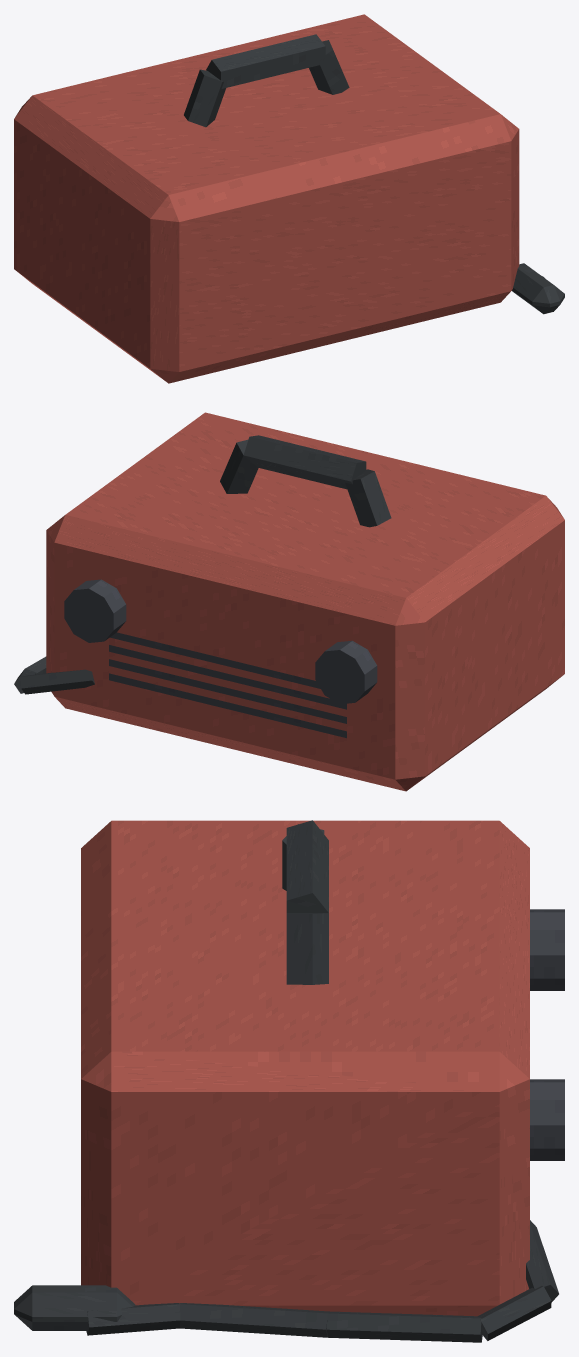
Rendered from welder.glb.
The picture shows the model from 3 angles, top to bottom: view 1: azimuth 30°, elevation 25°; view 2: azimuth 150°, elevation 25°; view 3: azimuth 270°, elevation 25°; orthographic projection. The views are drawn at different scales.
Parts seen in each view (by area): view 1: block_appliance housing, block_carry handle 1, block_carry handle 0, block_insulated lead grip, block_carry handle 2; view 2: block_appliance housing, block_case vent (×4), block_control knob (×2), block_carry handle 1, block_carry handle 0, block_coiled welding lead 0, block_carry handle 2; view 3: block_appliance housing, block_control knob (×2), block_insulated lead grip, block_coiled welding lead 2, block_coiled welding lead 3, block_carry handle 1, block_carry handle 2, block_coiled welding lead 4, block_coiled welding lead 1, block_coiled welding lead 0.
Part boxes in pixels (<box>): block_appliance housing: <box>14,14,519,383</box>; block_carry handle 1: <box>206,34,325,88</box>; block_carry handle 0: <box>184,69,226,127</box>; block_insulated lead grip: <box>512,263,564,314</box>; block_carry handle 2: <box>309,40,349,94</box>; block_appliance housing: <box>46,412,564,791</box>; block_case vent (×4): <box>109,632,346,738</box>; block_control knob (×2): <box>64,579,377,704</box>; block_carry handle 1: <box>243,435,366,489</box>; block_carry handle 0: <box>345,469,391,527</box>; block_coiled welding lead 0: <box>21,669,94,694</box>; block_carry handle 2: <box>220,439,258,493</box>; block_appliance housing: <box>81,820,529,1316</box>; block_control knob (×2): <box>530,909,564,1160</box>; block_insulated lead grip: <box>14,1285,135,1330</box>; block_coiled welding lead 2: <box>326,1311,482,1342</box>; block_coiled welding lead 3: <box>179,1303,328,1337</box>; block_carry handle 1: <box>286,820,328,912</box>; block_carry handle 2: <box>286,913,328,984</box>; block_coiled welding lead 4: <box>85,1303,180,1335</box>; block_coiled welding lead 1: <box>477,1286,551,1340</box>; block_coiled welding lead 0: <box>526,1220,558,1301</box>.
Size of the model in its own units: 0.2552 by 0.1484 by 0.2128.
1 material, 1 textured.
